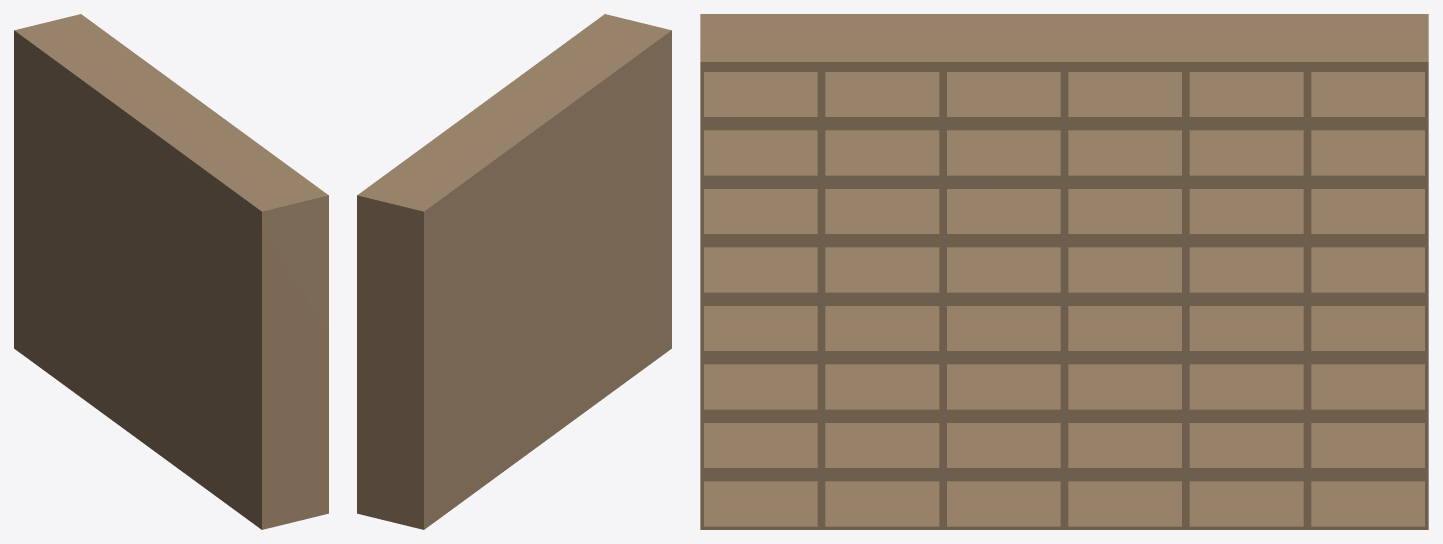
File: Skrinka.glb
The picture shows the model from 3 angles, left to right: view 1: azimuth 30°, elevation 25°; view 2: azimuth 150°, elevation 25°; view 3: azimuth 270°, elevation 25°; orthographic projection. The views are drawn at different scales.
Parts seen in each view (by area): view 1: Skrinka; view 2: Skrinka; view 3: Skrinka.
Boxes of the visible parts, <box> form: Skrinka: <box>14,14,328,529</box>; Skrinka: <box>357,14,671,529</box>; Skrinka: <box>700,14,1428,529</box>.
Size of the model in its own units: 1.49 by 6.76 by 9.54.
Materials: 1 (1 with a texture image).
